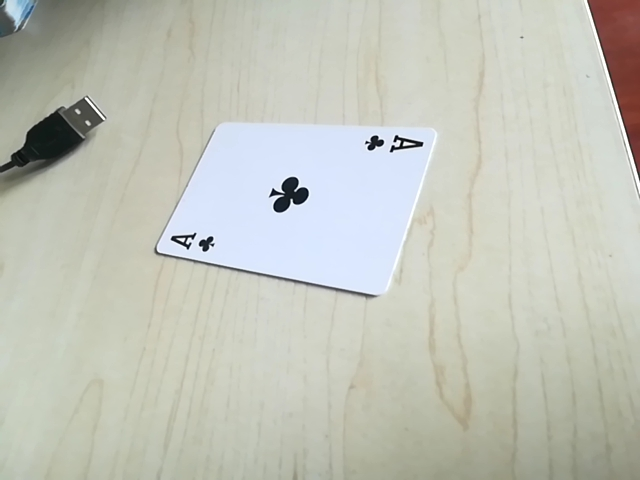mh a: (359, 128, 428, 160), (159, 225, 222, 258)
